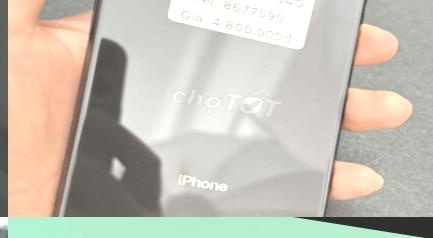scratch: (83, 196, 202, 217), (246, 167, 289, 217), (167, 193, 215, 217)
